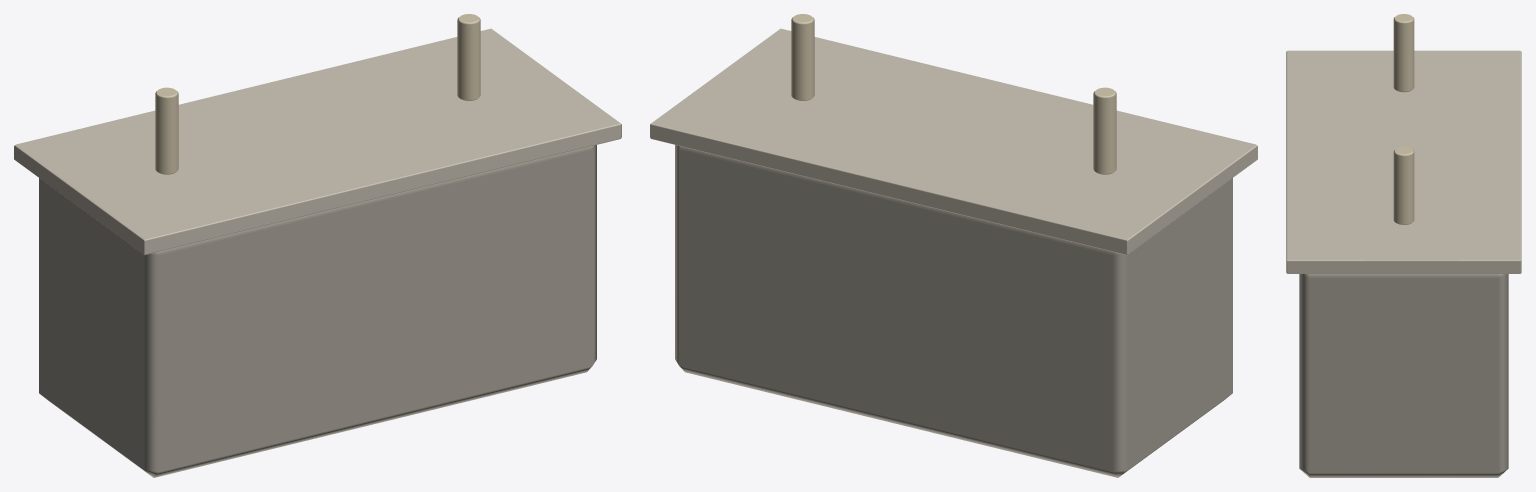
The model's file is altar.5fcf84e0.glb.
The picture shows the model from 3 angles, left to right: view 1: azimuth 30°, elevation 25°; view 2: azimuth 150°, elevation 25°; view 3: azimuth 270°, elevation 25°; orthographic projection. The views are drawn at different scales.
Parts seen in each view (by area): view 1: body; view 2: body; view 3: body.
Boxes of the visible parts, <box> form: body: <box>14,14,621,477</box>; body: <box>650,14,1257,477</box>; body: <box>1286,14,1521,477</box>.
Size of the model in its own units: 1.9 by 1.26 by 0.9.
